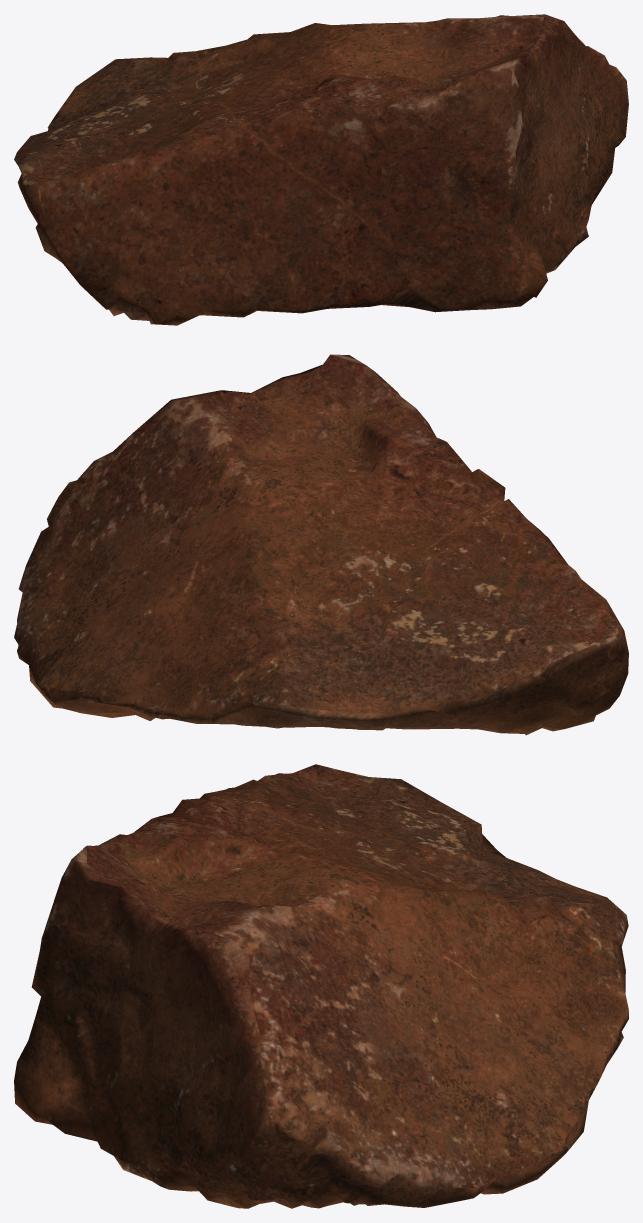
The model's file is SM_wlhcajth_tier_2.gltf.
3 views of the same model, one above another, from view 1: azimuth 30°, elevation 25°; view 2: azimuth 150°, elevation 25°; view 3: azimuth 270°, elevation 25° (orthographic). The views are drawn at different scales.
Parts seen in each view (by area): view 1: wlhcajth_LOD2_TIER2_000; view 2: wlhcajth_LOD2_TIER2_000; view 3: wlhcajth_LOD2_TIER2_000.
Part boxes in pixels (left/top/right/bottom): wlhcajth_LOD2_TIER2_000: left=14, top=14, right=628, bottom=325; wlhcajth_LOD2_TIER2_000: left=14, top=354, right=628, bottom=735; wlhcajth_LOD2_TIER2_000: left=14, top=764, right=628, bottom=1208.
Bounding box in the file's own units: 0.3579 × 0.1412 × 0.2804.
Materials: 1 (1 with a texture image).
